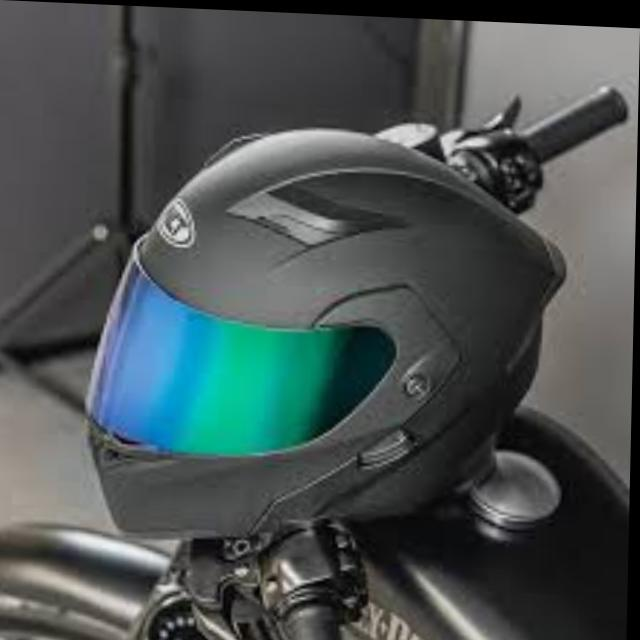motorcycle-helmets: (90, 134, 561, 535)
